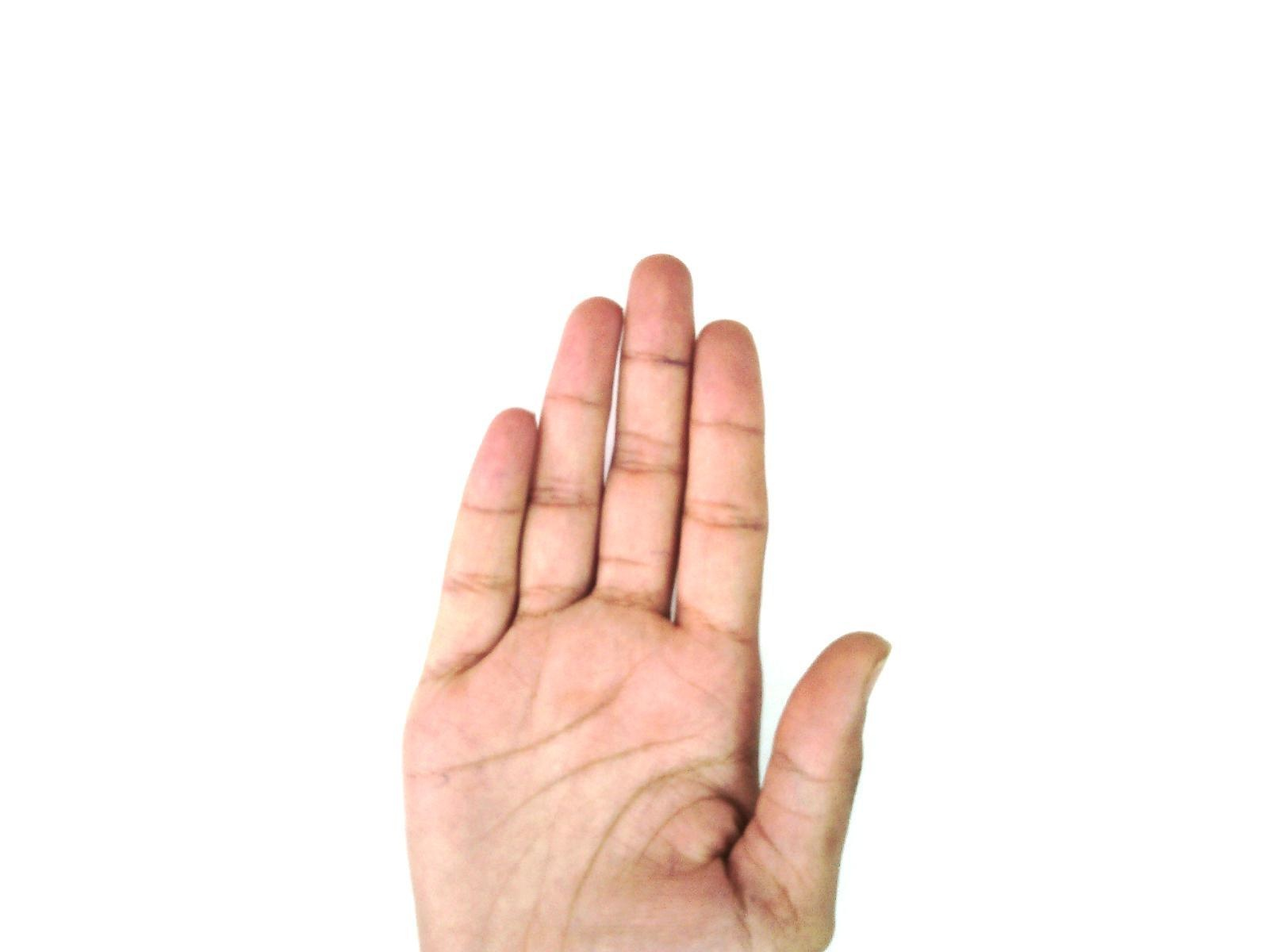open_palm: (399, 253, 894, 951)
